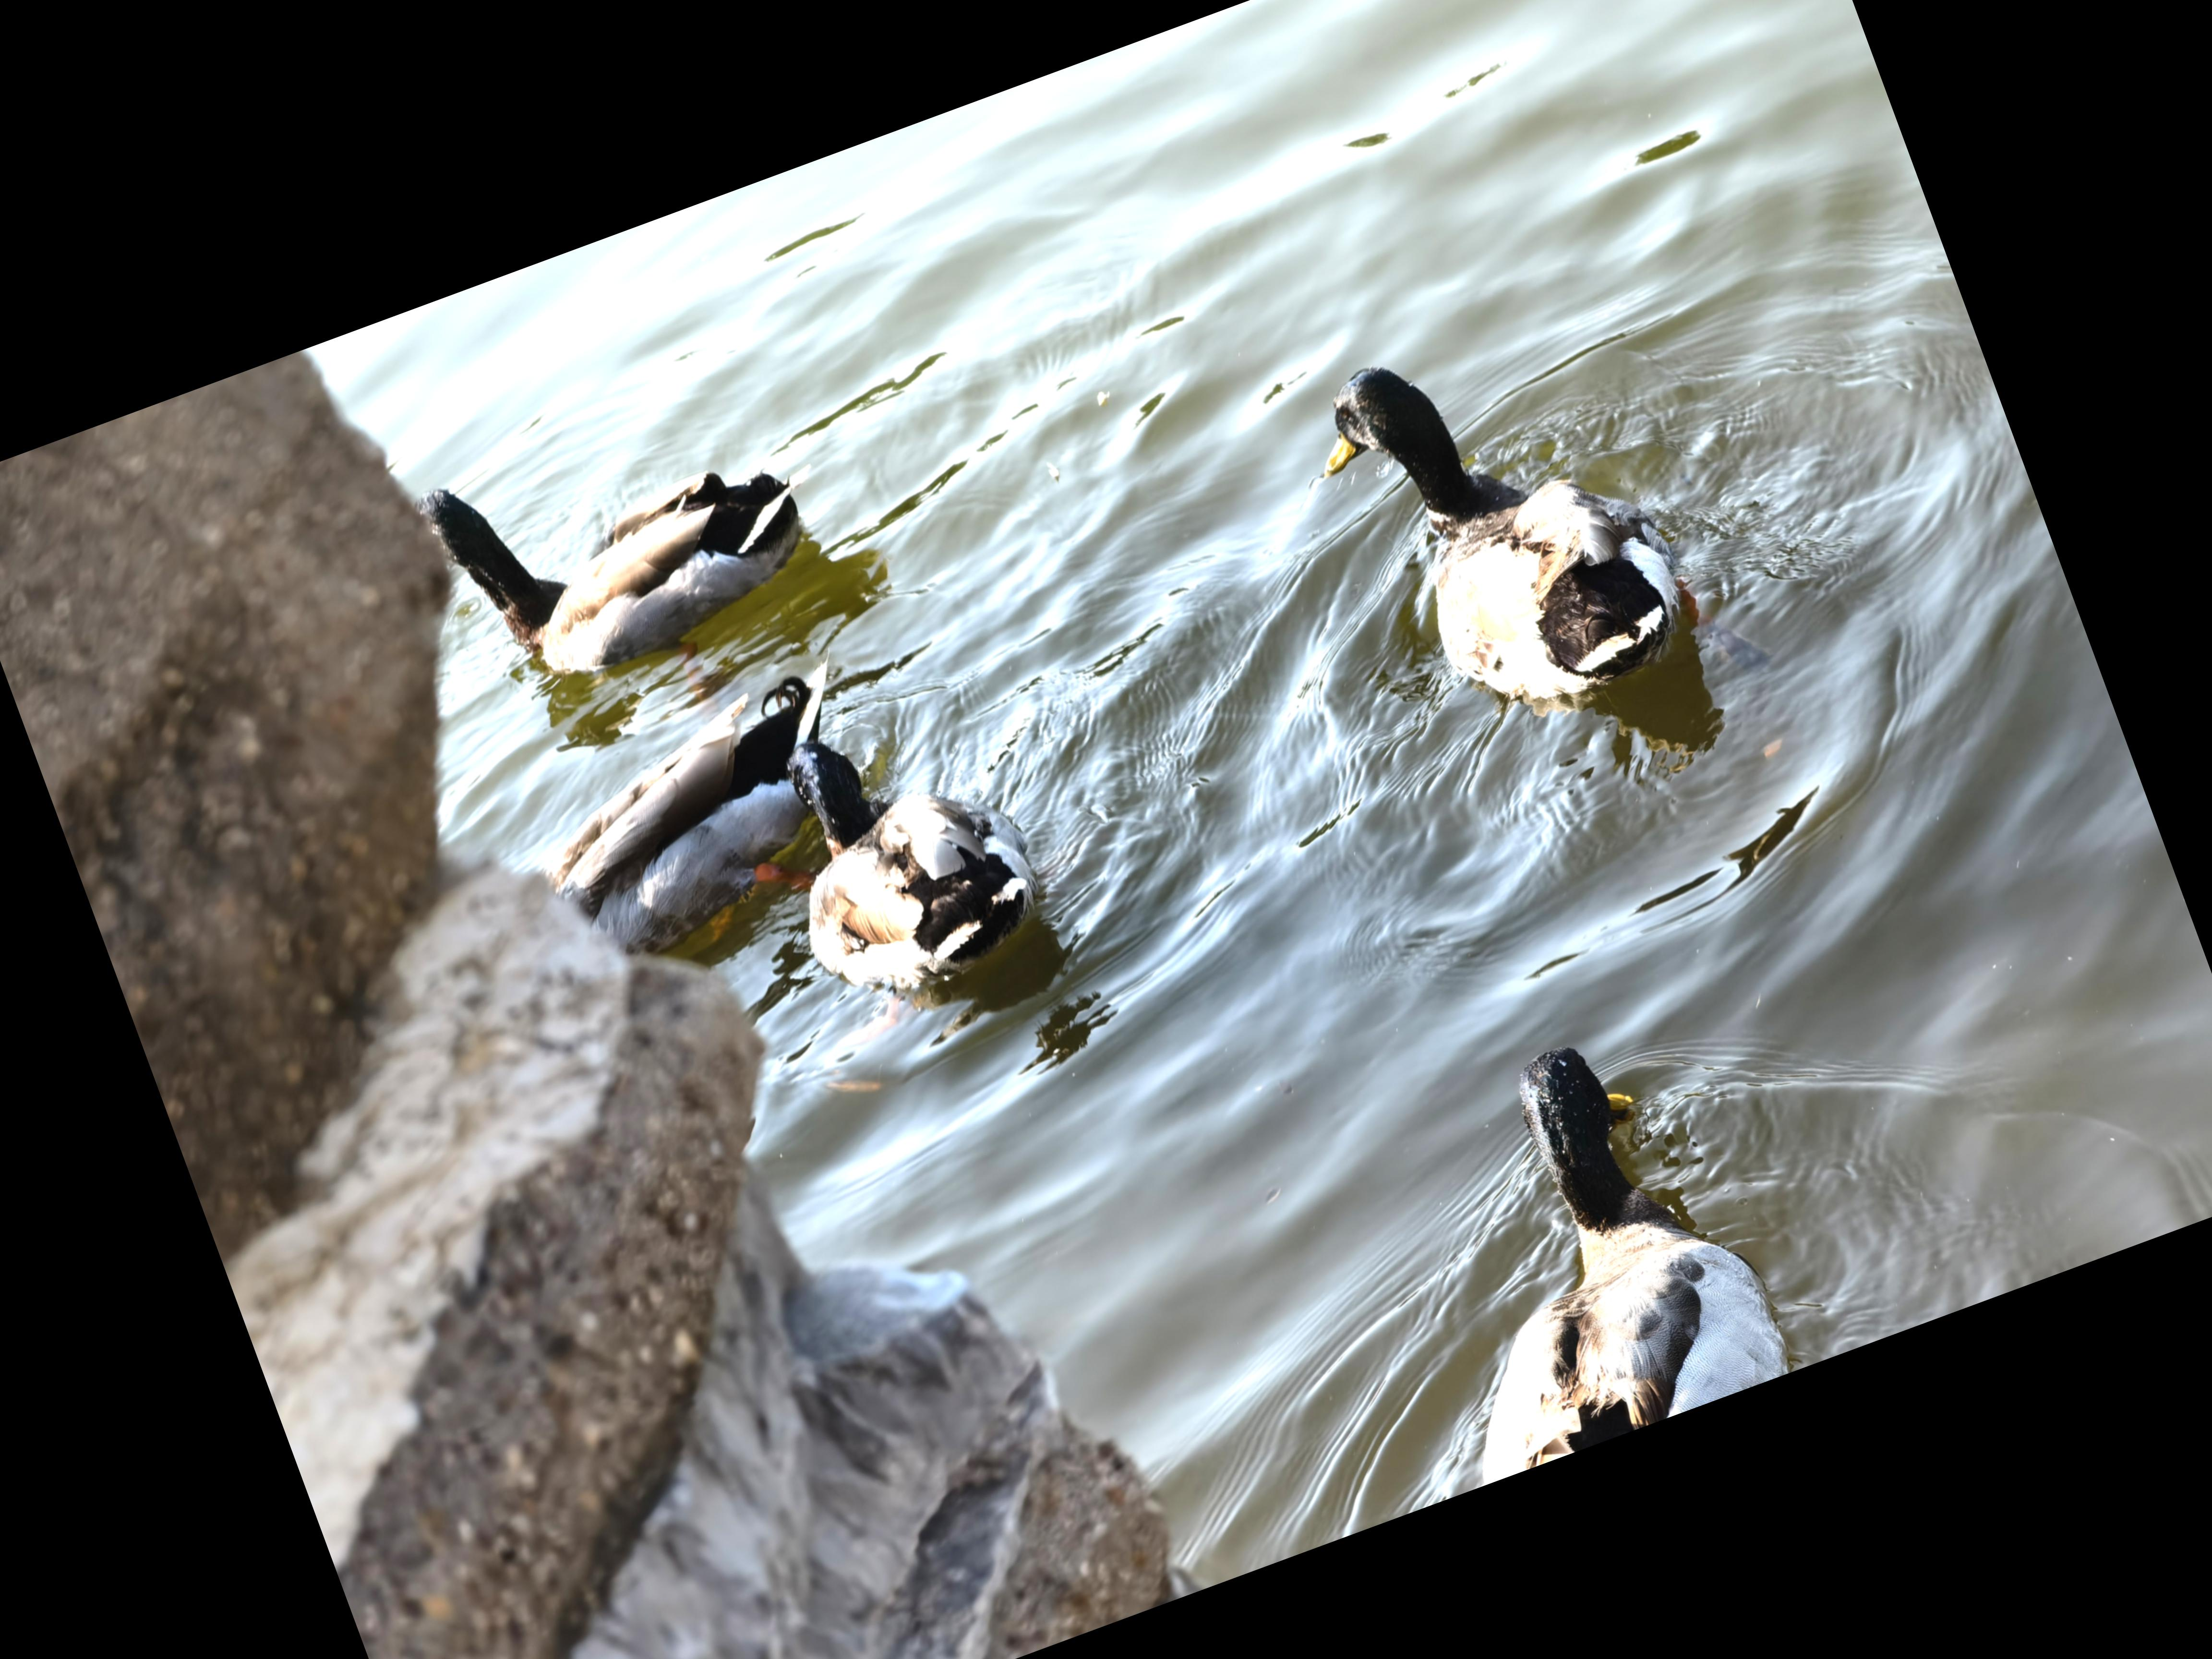duck: (1278, 267, 1754, 796), (1334, 983, 1815, 1483), (399, 355, 866, 708), (493, 636, 907, 964), (754, 671, 1069, 1014)
